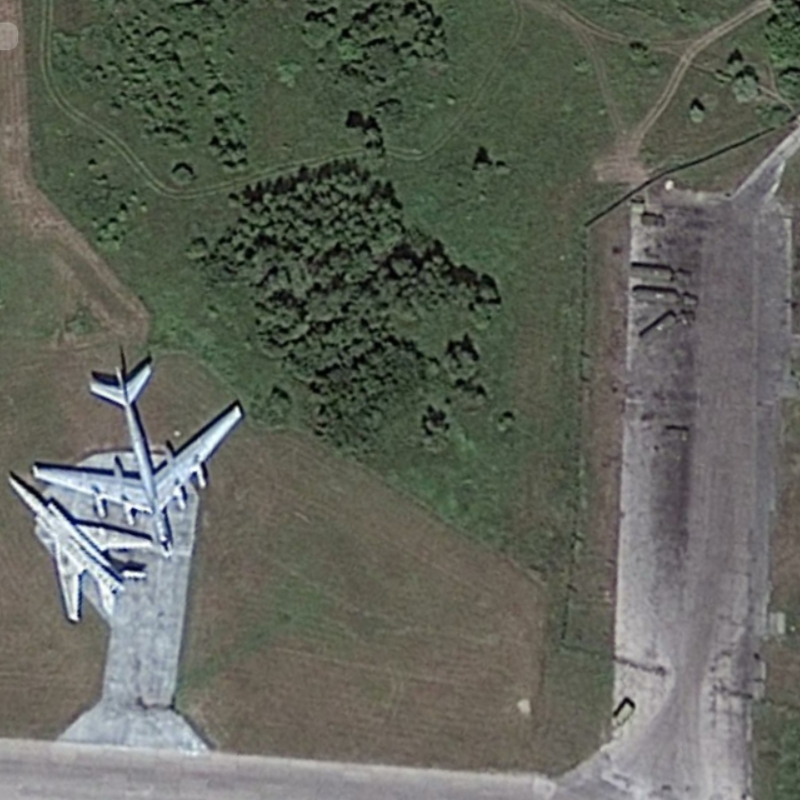A12: (4, 471, 156, 625)
A17: (30, 362, 245, 554)
